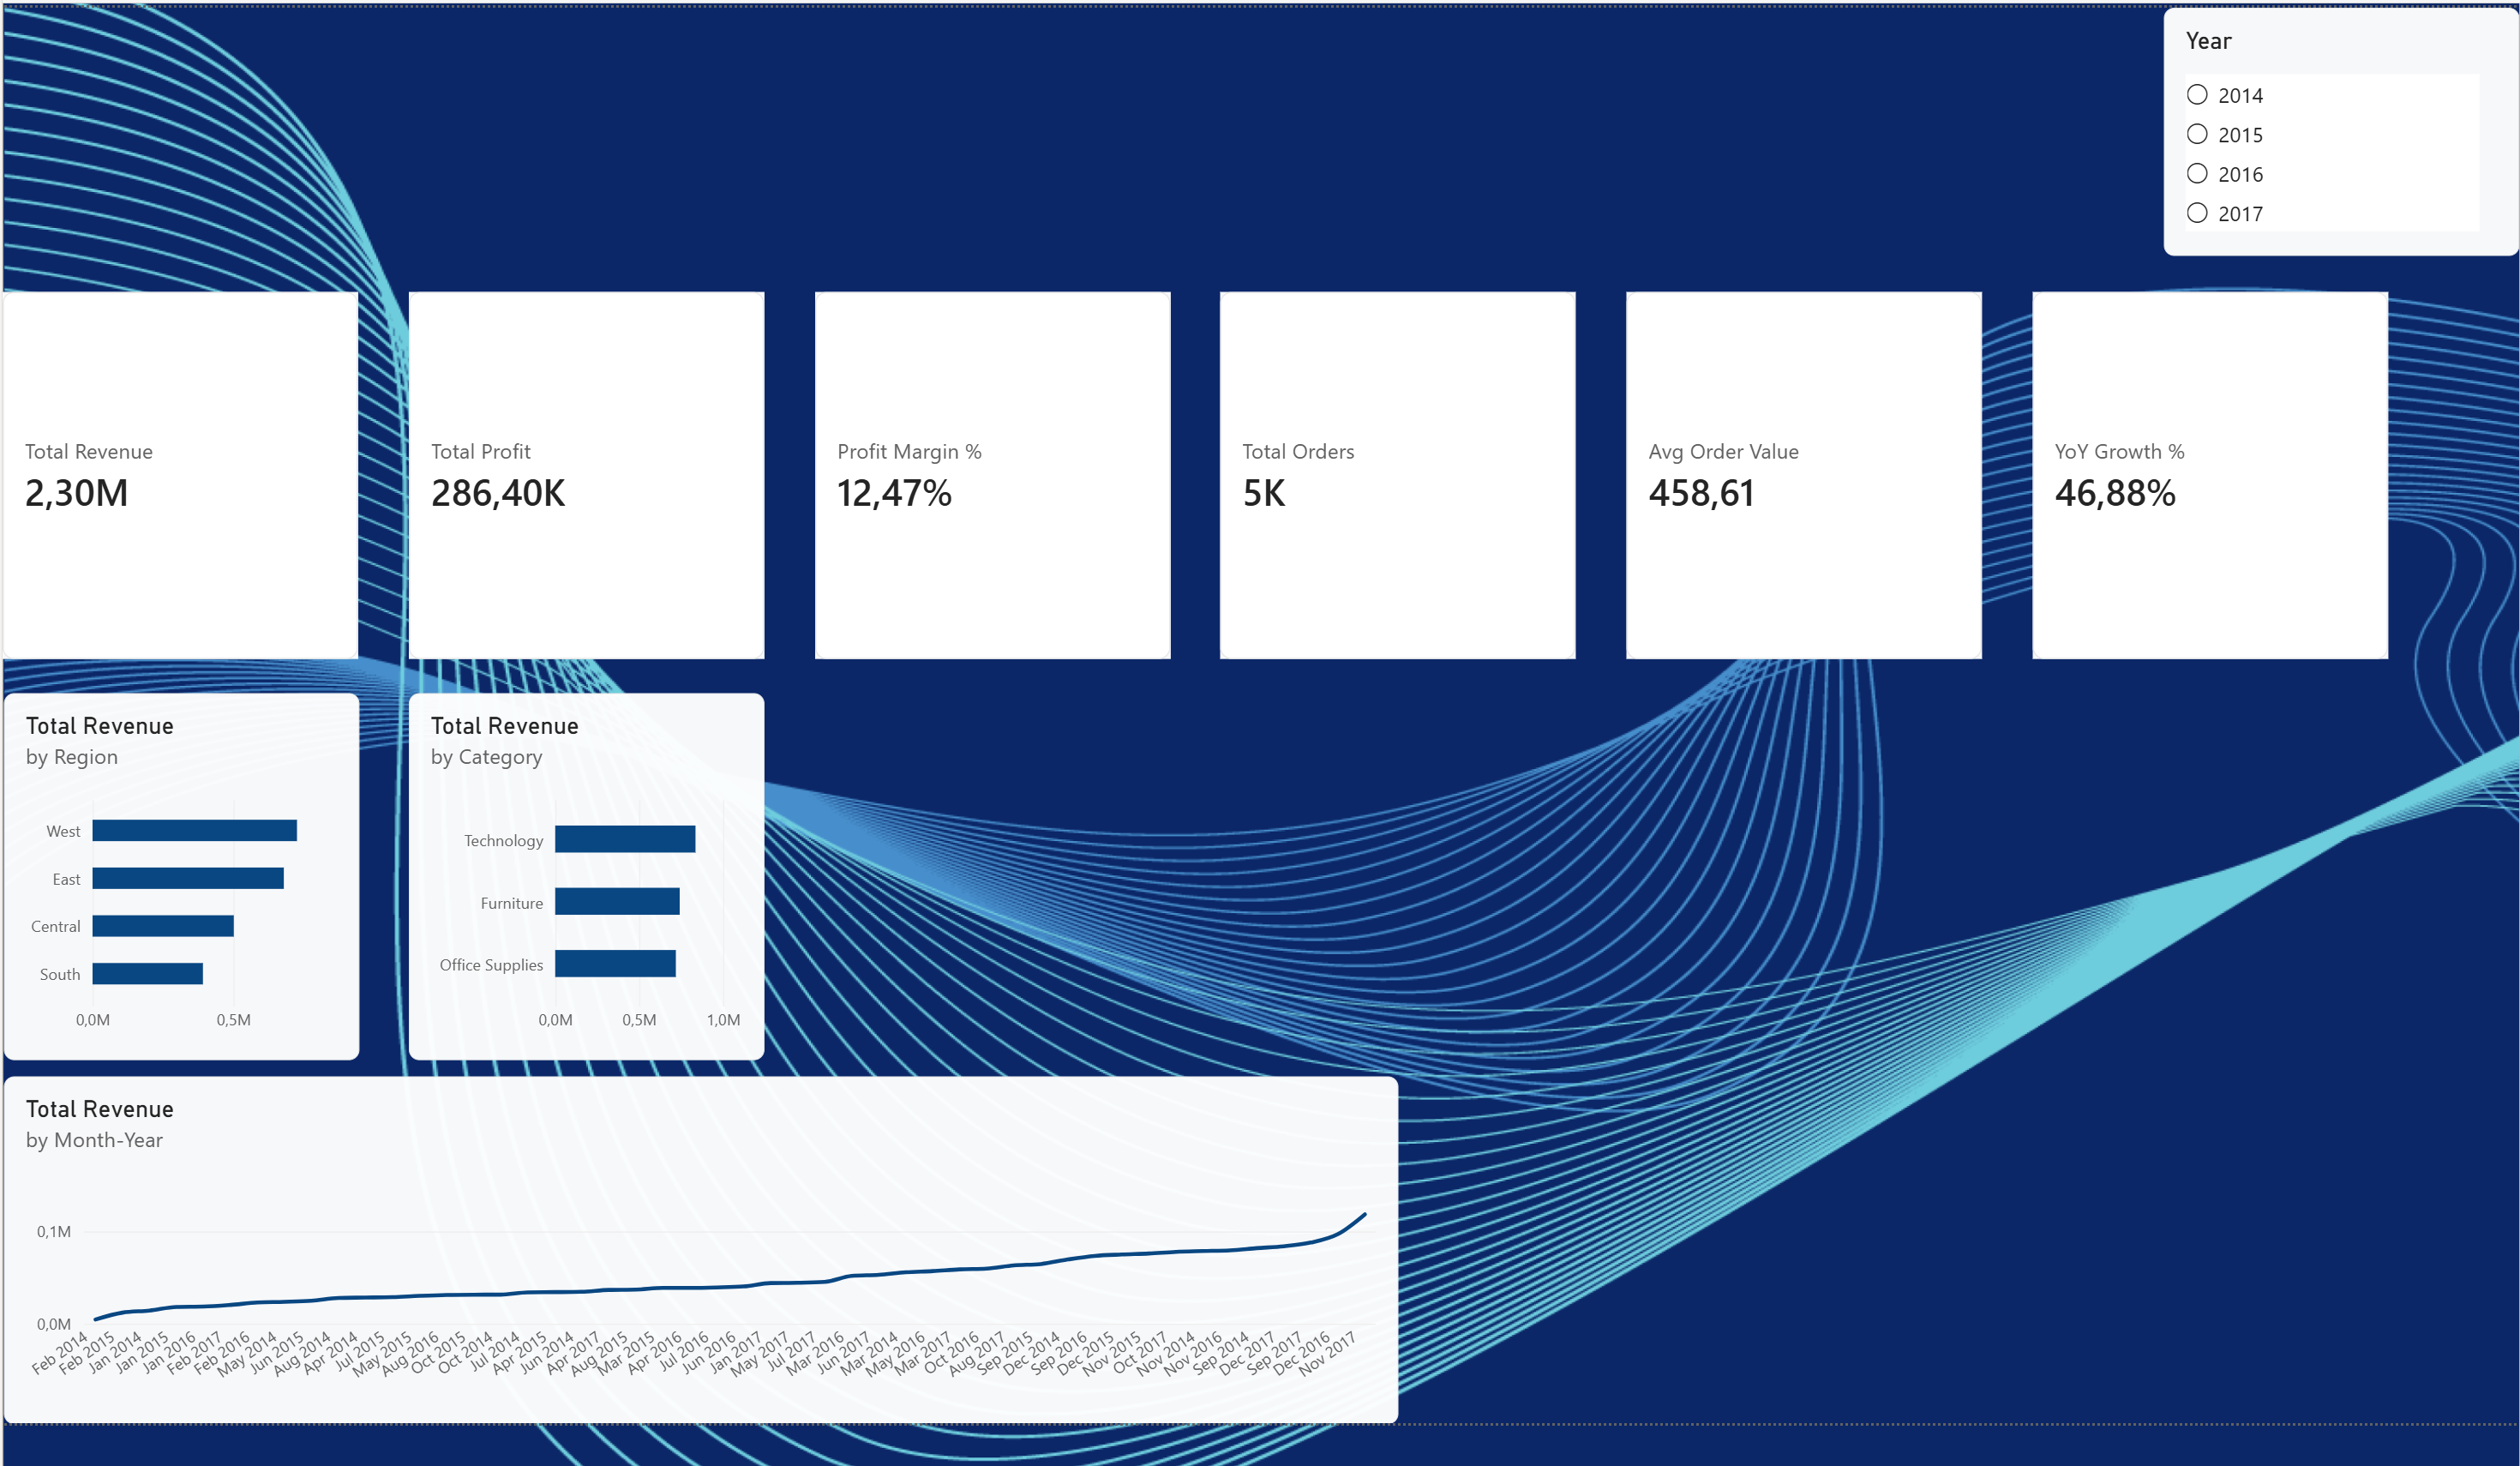

The page's visual inventory and layout, read from the dashboard file:
{"tool":"powerbi","page":{"name":"Executive Summary","canvas":[1920,1080],"ordinal":0},"visuals":[{"type":"cardVisual","fields":{"Data":["Date Table.Total Revenue"]},"box":[0,217,271,280],"z":0},{"type":"cardVisual","fields":{"Data":["Date Table.Total Profit"]},"box":[309.8,217,271,280],"z":1000},{"type":"cardVisual","fields":{"Data":["Date Table.Profit Margin %"]},"box":[619.6,217,271,280],"z":2000},{"type":"cardVisual","fields":{"Data":["Date Table.Total Orders"]},"box":[929.4,217,271,280],"z":3000},{"type":"cardVisual","fields":{"Data":["Date Table.Avg Order Value"]},"box":[1239.2,217,271,280],"z":4000},{"type":"cardVisual","fields":{"Data":["Date Table.YoY Growth %"]},"box":[1549,217,271,280],"z":5000},{"type":"clusteredBarChart","fields":{"Category":["Sample - Superstore csv.Region"],"Y":["Date Table.Total Revenue"]},"box":[1,523,271,280],"z":6000},{"type":"clusteredBarChart","fields":{"Category":["Sample - Superstore csv.Category"],"Y":["Date Table.Total Revenue"]},"box":[310,523,271,280],"z":7000},{"type":"listSlicer","fields":{"Values":["Date Table.Year"]},"box":[1649,0,271,189],"z":8000},{"type":"lineChart","fields":{"Category":["Date Table.Month-Year"],"Y":["Date Table.Total Revenue"]},"box":[1,815,1064,265],"z":8001}]}

Visuals, with their boxes in screenshot pixels (x1, y1, x2, y2):
cardVisual - Date Table.Total Revenue: [x1=0, y1=287, x2=351, y2=650]
cardVisual - Date Table.Total Profit: [x1=401, y1=287, x2=752, y2=650]
cardVisual - Date Table.Profit Margin %: [x1=802, y1=287, x2=1153, y2=650]
cardVisual - Date Table.Total Orders: [x1=1203, y1=287, x2=1554, y2=650]
cardVisual - Date Table.Avg Order Value: [x1=1604, y1=287, x2=1955, y2=650]
cardVisual - Date Table.YoY Growth %: [x1=2005, y1=287, x2=2355, y2=650]
clusteredBarChart - Sample - Superstore csv.Region x Date Table.Total Revenue: [x1=2, y1=683, x2=352, y2=1046]
clusteredBarChart - Sample - Superstore csv.Category x Date Table.Total Revenue: [x1=401, y1=683, x2=752, y2=1046]
listSlicer - Date Table.Year: [x1=2134, y1=7, x2=2485, y2=251]
lineChart - Date Table.Month-Year x Date Table.Total Revenue: [x1=2, y1=1061, x2=1378, y2=1405]
